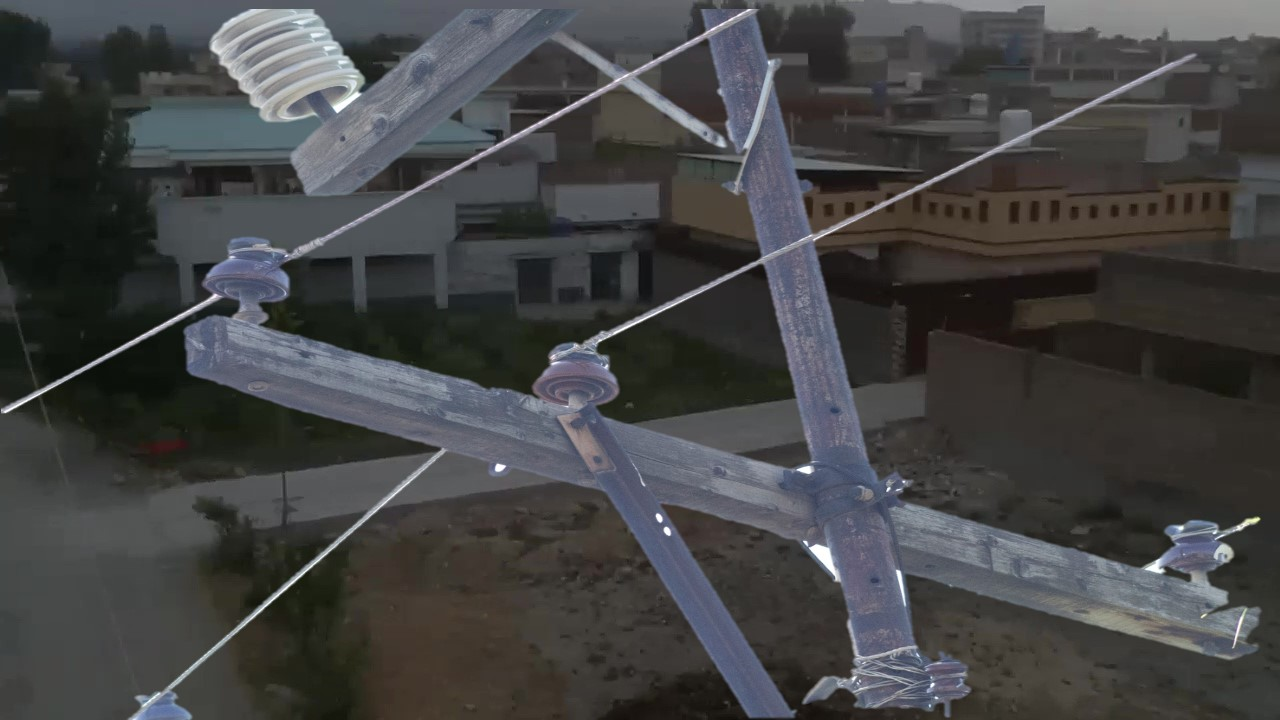defect_pin: (1147, 508, 1242, 583)
insulator_pin: (197, 224, 303, 318), (526, 334, 624, 416)
